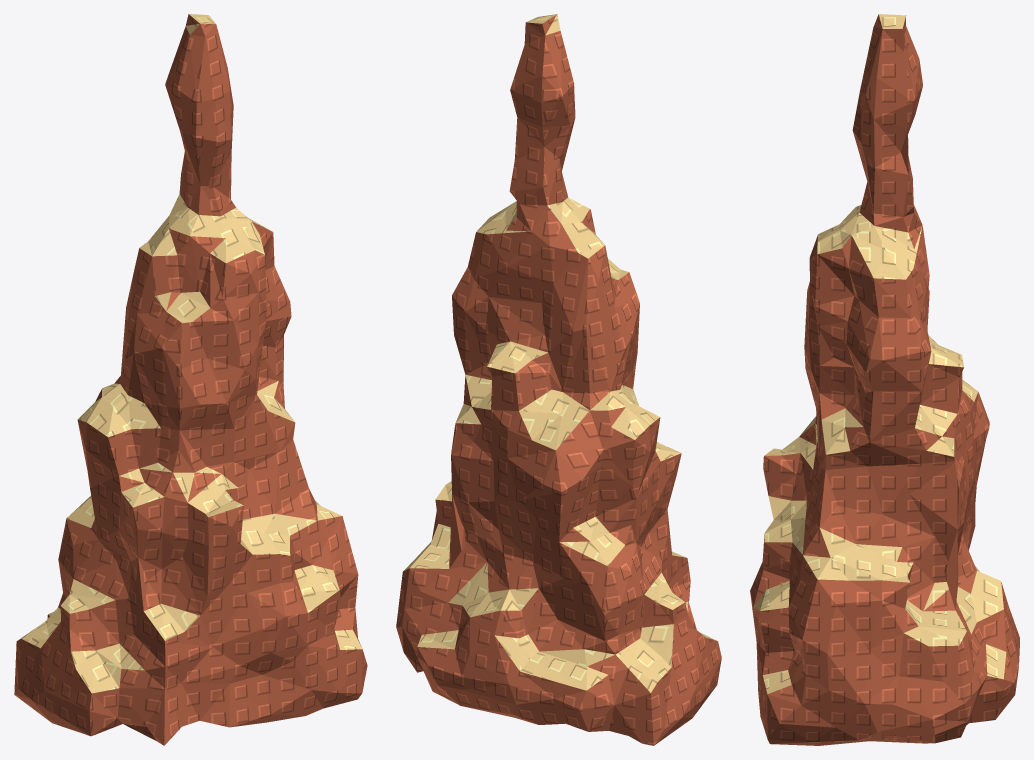
The model's file is DesertCrag.glb.
The picture shows the model from 3 angles, left to right: view 1: azimuth 30°, elevation 25°; view 2: azimuth 150°, elevation 25°; view 3: azimuth 270°, elevation 25°; orthographic projection. The views are drawn at different scales.
Parts seen in each view (by area): view 1: DesertCrag_Rock, DesertCrag_Top; view 2: DesertCrag_Rock, DesertCrag_Top; view 3: DesertCrag_Rock, DesertCrag_Top.
Part boxes in pixels (bbox=[...]): DesertCrag_Rock: bbox=[14, 14, 367, 745]; DesertCrag_Top: bbox=[17, 14, 362, 693]; DesertCrag_Rock: bbox=[396, 14, 721, 745]; DesertCrag_Top: bbox=[403, 14, 716, 692]; DesertCrag_Rock: bbox=[750, 14, 1019, 745]; DesertCrag_Top: bbox=[753, 14, 1006, 693].
Bounding box in the file's own units: 13.06 × 29.86 × 10.64.
2 materials, 2 textured.
